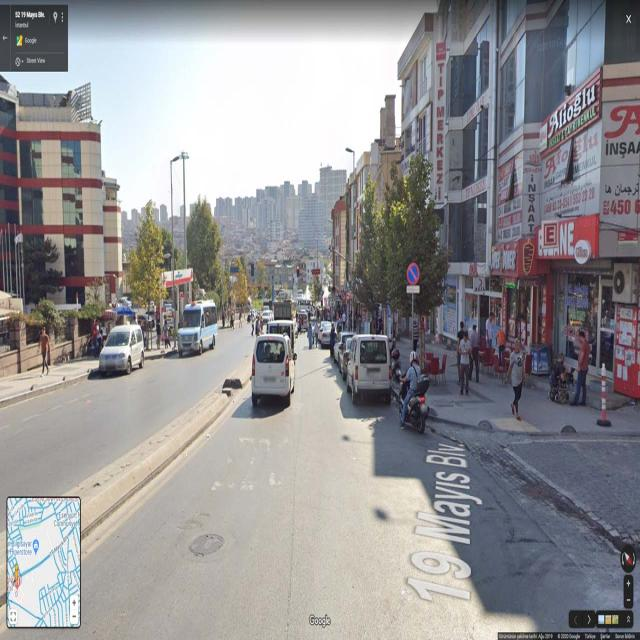parkyasak: (407, 260, 420, 285)
